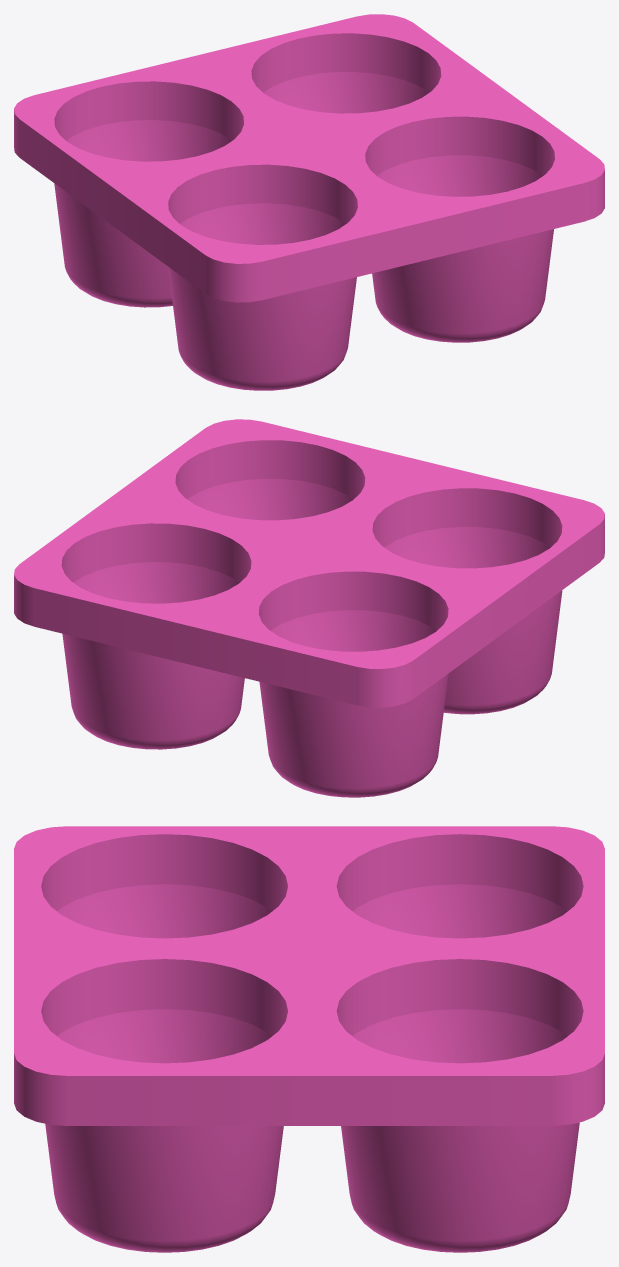
Rendered from Cupcake Tray Sort - Tray 1.fbx.
3 views of the same model, one above another, from view 1: azimuth 30°, elevation 25°; view 2: azimuth 150°, elevation 25°; view 3: azimuth 270°, elevation 25° (orthographic). The views are drawn at different scales.
Parts seen in each view (by area): view 1: tray 1; view 2: tray 1; view 3: tray 1.
Part boxes in pixels (x1=…): tray 1: x1=14, y1=14, x2=604, y2=390; tray 1: x1=14, y1=419, x2=604, y2=797; tray 1: x1=14, y1=826, x2=604, y2=1252.
Size of the model in its own units: 0.0934 by 0.0934 by 0.0357.
